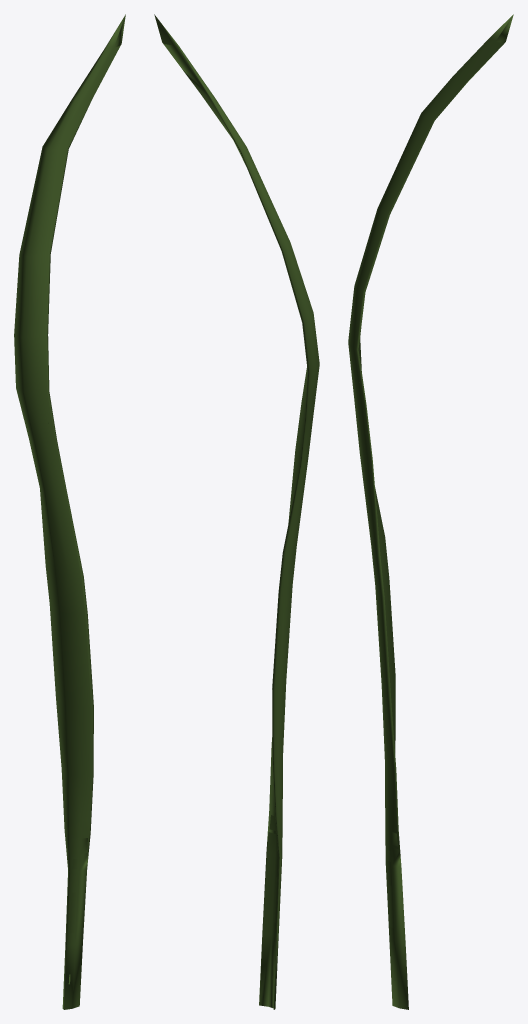
The model's file is grass3.fbx.
3 renders of one model, left to right at view 1: azimuth 30°, elevation 25°; view 2: azimuth 150°, elevation 25°; view 3: azimuth 330°, elevation 25°, orthographic. The views are drawn at different scales.
Parts seen in each view (by area): view 1: Cube; view 2: Cube; view 3: Cube.
Part boxes in pixels (box(x1,y1,x2,y2)): Cube: box(14, 14, 125, 1009); Cube: box(154, 14, 319, 1009); Cube: box(348, 14, 513, 1009).
Size of the model in its own units: 168 by 1175 by 95.87.
